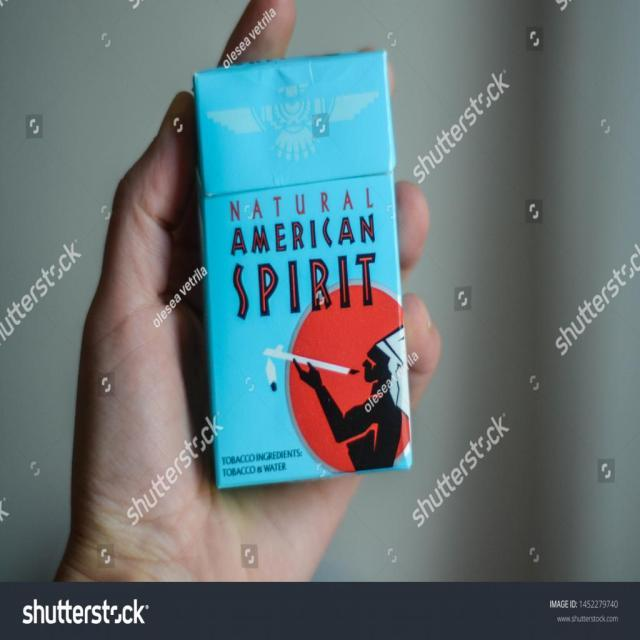smoking: (191, 50, 415, 489)
